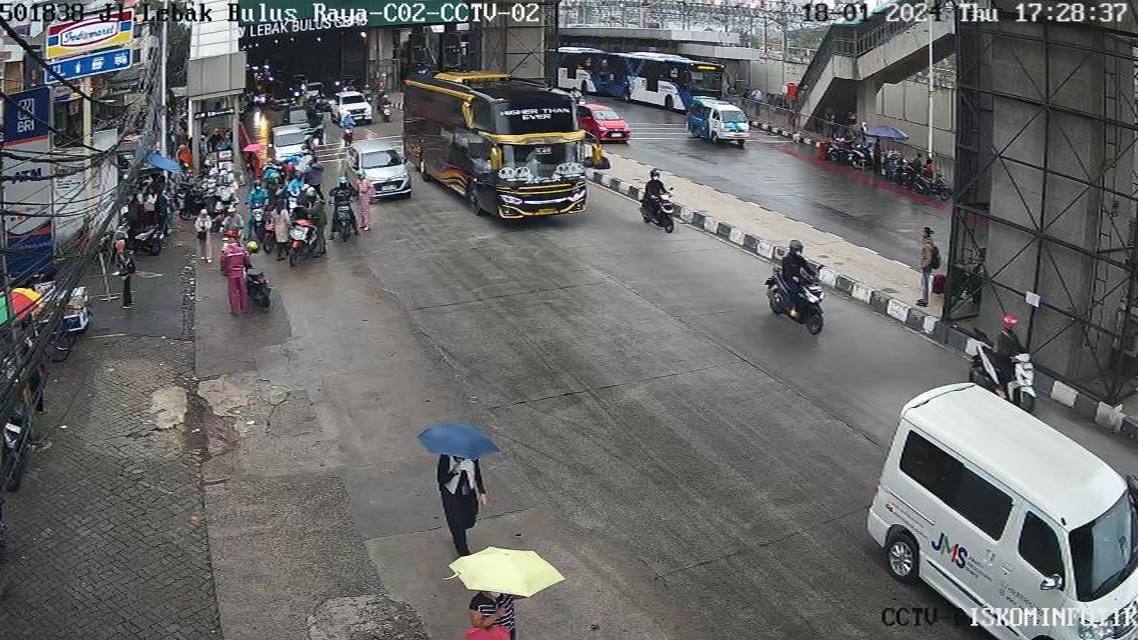Gerobak: (21, 280, 107, 359)
